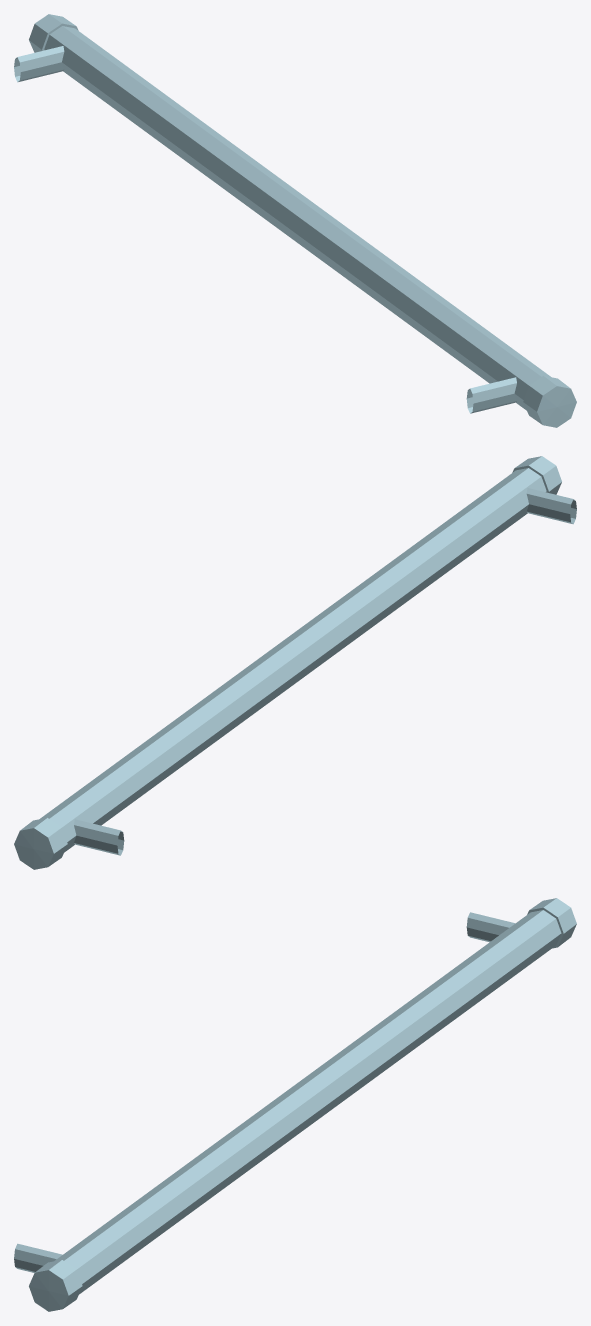
File: Bedroom_2_Cornice_2.fbx
3 renders of one model, top to bottom at view 1: azimuth 30°, elevation 25°; view 2: azimuth 150°, elevation 25°; view 3: azimuth 330°, elevation 25°, orthographic.
Visible parts, largest first — view 1: Bedroom_2_Cornice_2; view 2: Bedroom_2_Cornice_2; view 3: Bedroom_2_Cornice_2.
Part boxes in pixels (x1,y1,x2,y2): Bedroom_2_Cornice_2: (14, 14, 576, 427); Bedroom_2_Cornice_2: (14, 456, 576, 869); Bedroom_2_Cornice_2: (14, 898, 576, 1311).
Bounding box in the file's own units: 18.58 × 9.52 × 206.
